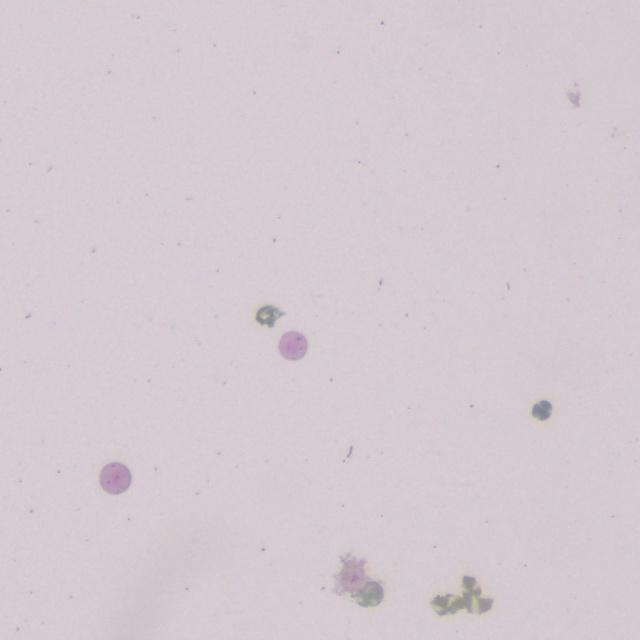intermediate: (99, 462, 131, 494), (279, 331, 307, 360)
non_viable: (531, 400, 551, 420)
